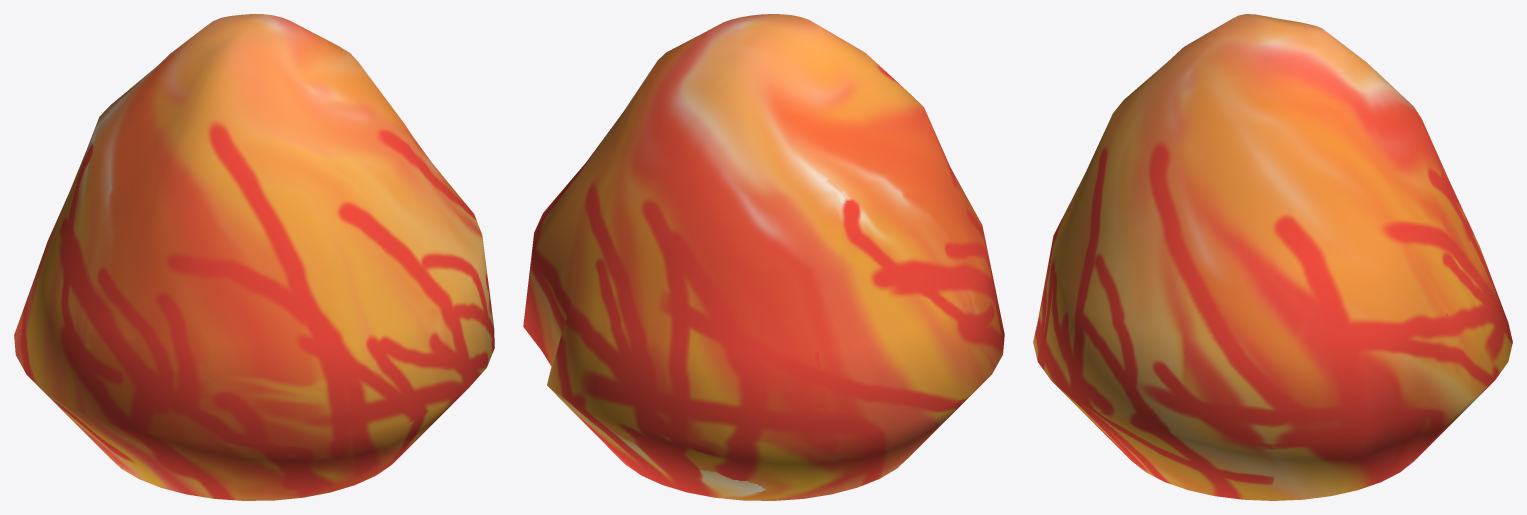
File: fire_2.fbx
The picture shows the model from 3 angles, left to right: view 1: azimuth 30°, elevation 25°; view 2: azimuth 150°, elevation 25°; view 3: azimuth 270°, elevation 25°; orthographic projection.
Visible parts, largest first — view 1: Cylinder; view 2: Cylinder; view 3: Cylinder.
Boxes of the visible parts, left/top/right/bottom form: Cylinder: left=14, top=14, right=494, bottom=500; Cylinder: left=523, top=14, right=1004, bottom=500; Cylinder: left=1033, top=14, right=1512, bottom=500.
Size of the model in its own units: 159 by 149 by 158.
Materials: 1 (1 with a texture image).
